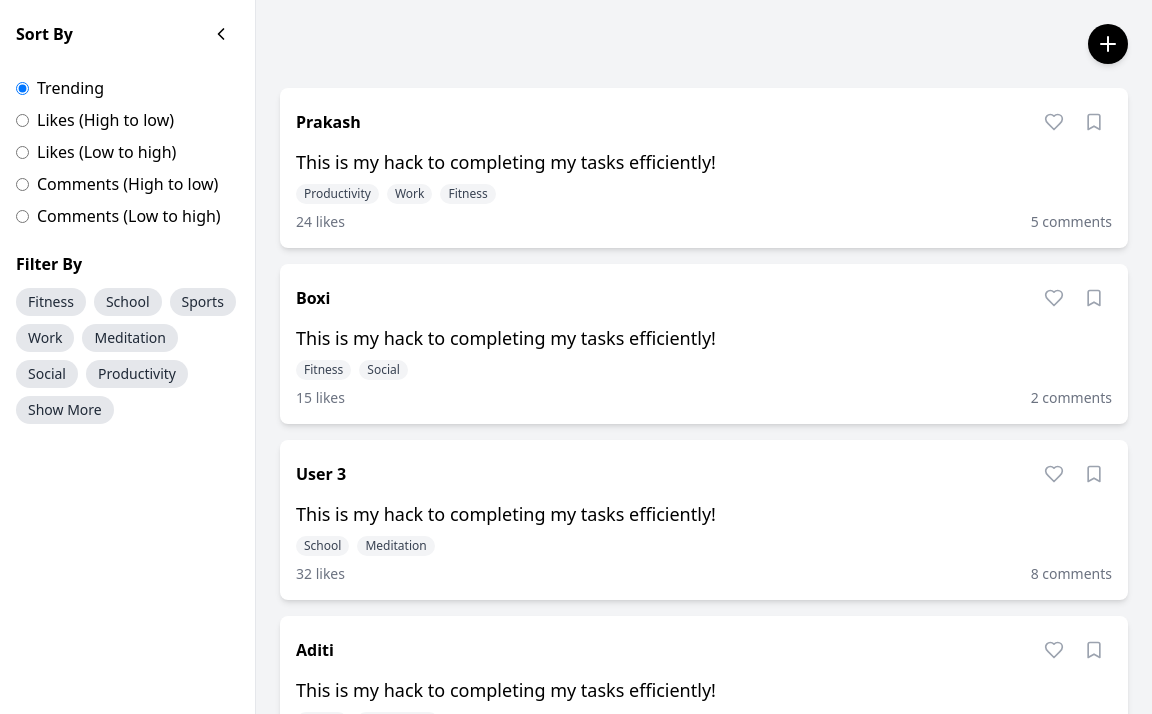
Test: Community Component › creates new post
The width and height of the screenshot is (1152, 714).
// Open the modal
Click the button with test id "create-post-button" at (1108, 44), box [1088,24,1128,64]
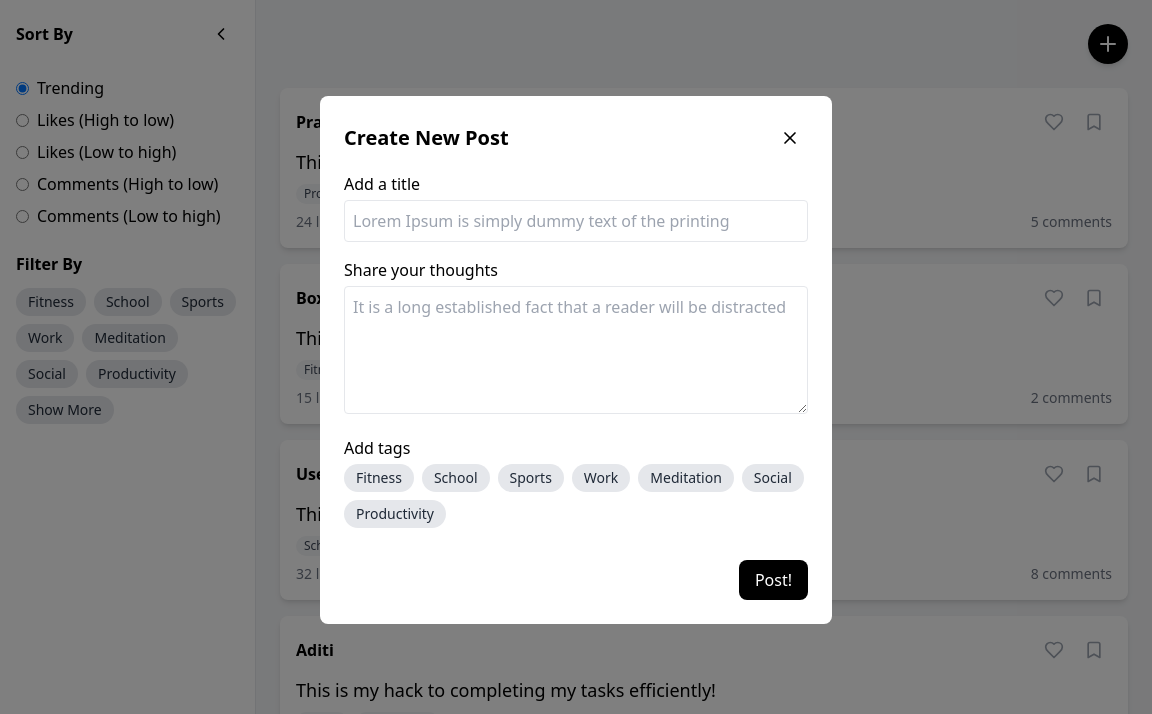
Type "Test Post Title" into the field with placeholder "Lorem Ipsum is simply dummy text of the printing" at (576, 221), box [344,200,808,242]
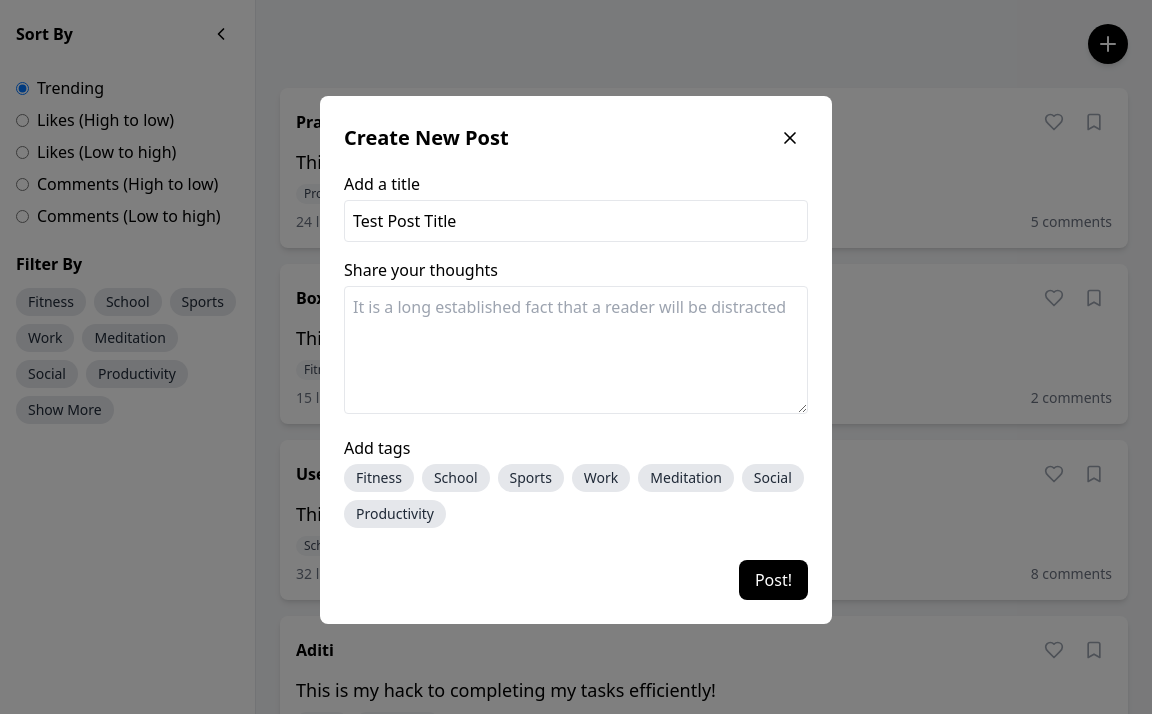
Replace the text in the text box with placeholder "It is a long established fact" with "Test Post Content" at (576, 350), box [344,286,808,414]
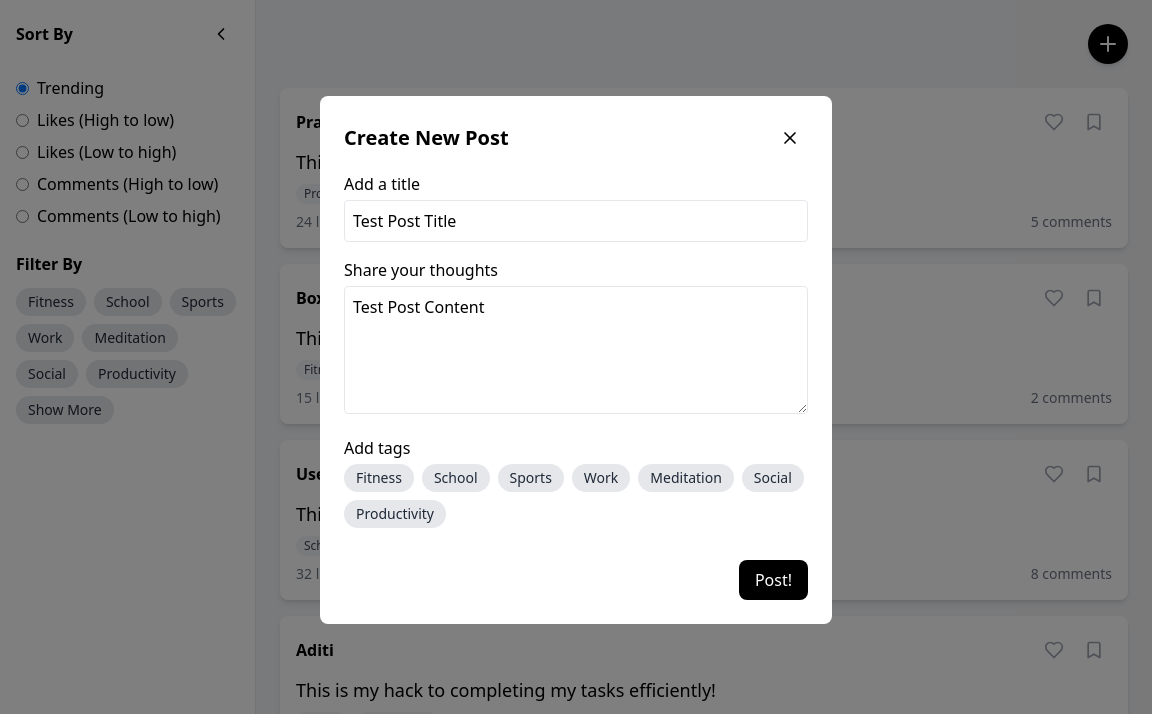
// Submit the form
Click the button "Post!" at (773, 580), box [739,560,808,600]
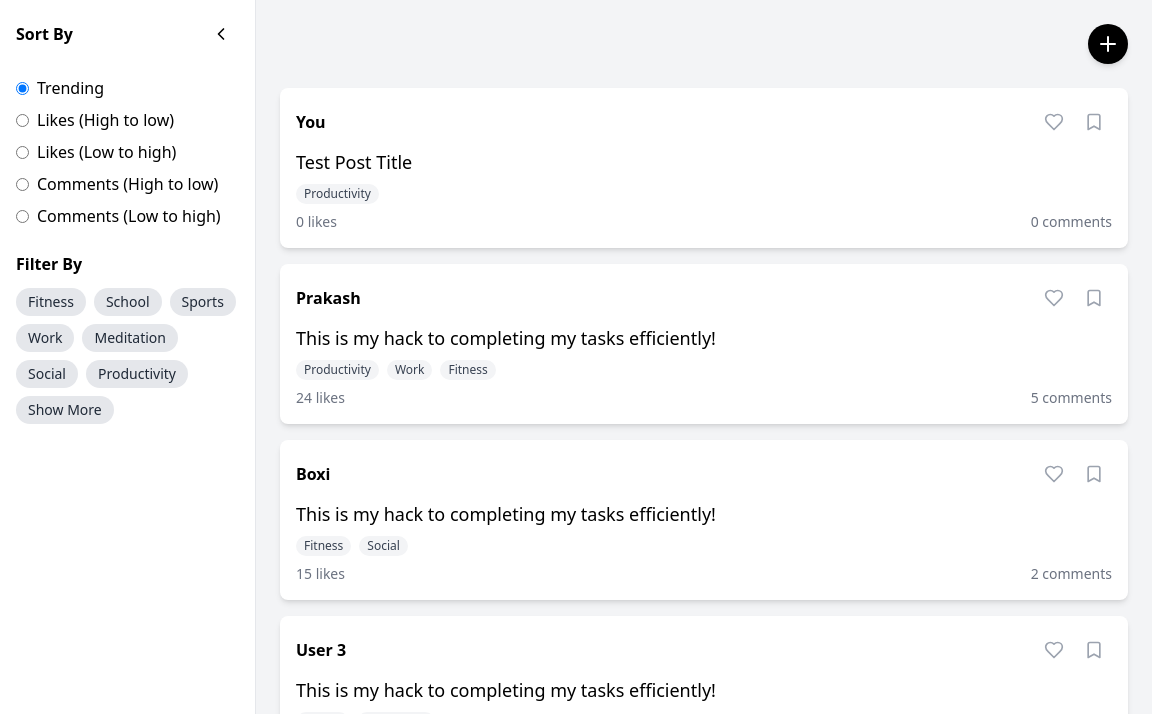
Expected: the heading "Test Post Title" is shown, [296,150,412,174]
Expected: the heading "Create New Post" is gone
